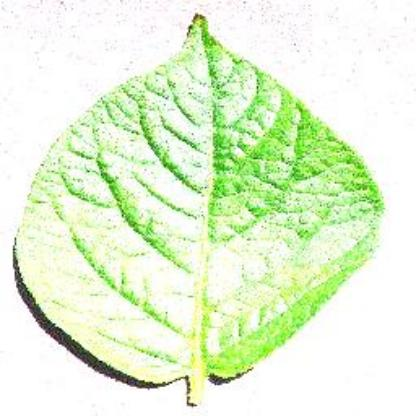Healthy-plant: (10, 12, 388, 402)
